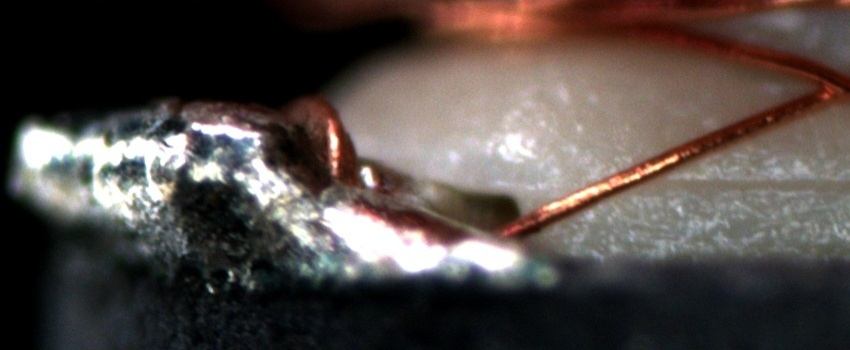CL: (795, 58, 850, 111)
DL: (672, 156, 850, 218)
TE: (317, 109, 348, 193)
